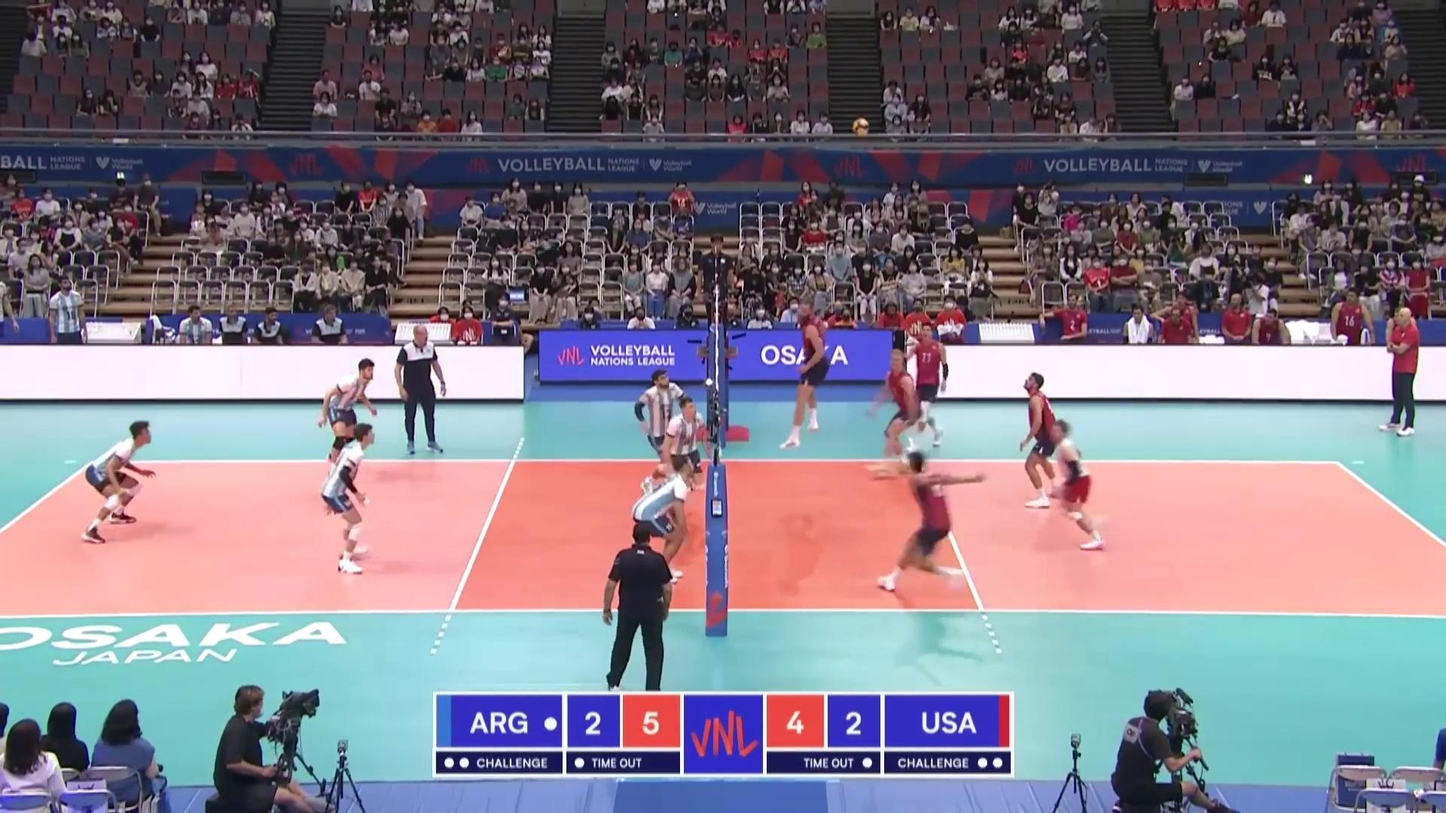player: (877, 452, 987, 595), (79, 422, 155, 542), (1045, 420, 1108, 552), (781, 300, 836, 448), (633, 456, 696, 584), (321, 423, 372, 576), (318, 358, 376, 481), (634, 368, 688, 498), (868, 353, 923, 478), (902, 324, 952, 450), (1018, 372, 1065, 506), (664, 397, 707, 510)
refree: (601, 523, 680, 691), (694, 233, 736, 346)
